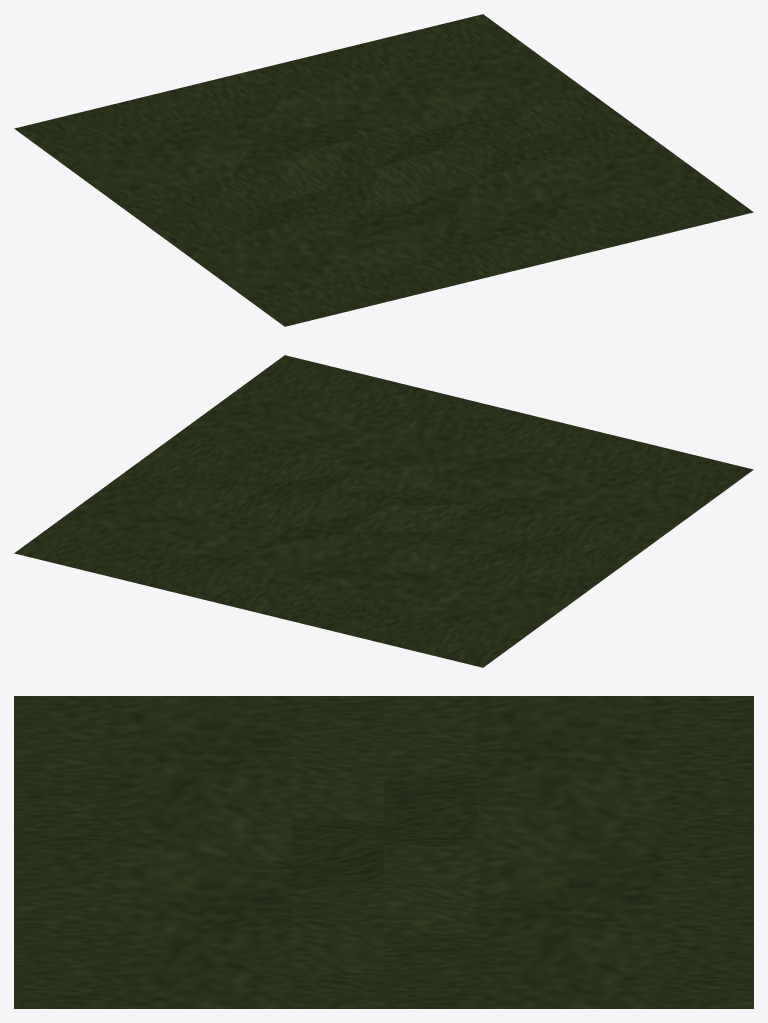
Rendered from Terrain_Grass_2x2.glb.
3 views of the same model, one above another, from view 1: azimuth 30°, elevation 25°; view 2: azimuth 150°, elevation 25°; view 3: azimuth 270°, elevation 25° (orthographic). The views are drawn at different scales.
Parts seen in each view (by area): view 1: Terrain_Grass_2x2; view 2: Terrain_Grass_2x2; view 3: Terrain_Grass_2x2.
Part boxes in pixels (x1,y1,x2,y2): Terrain_Grass_2x2: [14, 14, 753, 326]; Terrain_Grass_2x2: [14, 355, 753, 667]; Terrain_Grass_2x2: [14, 696, 753, 1008].
Size of the model in its own units: 2 by 0.0598 by 2.
1 material, 1 textured.
